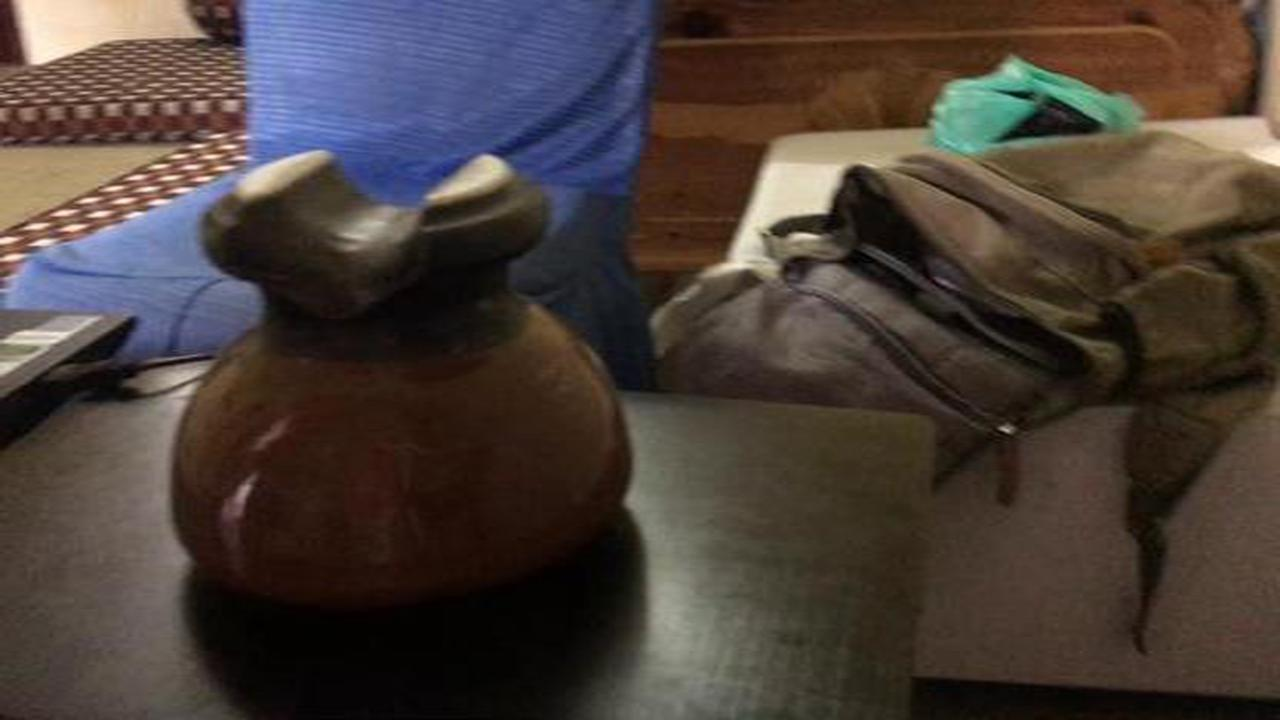insulator_pin: (140, 141, 650, 639)
